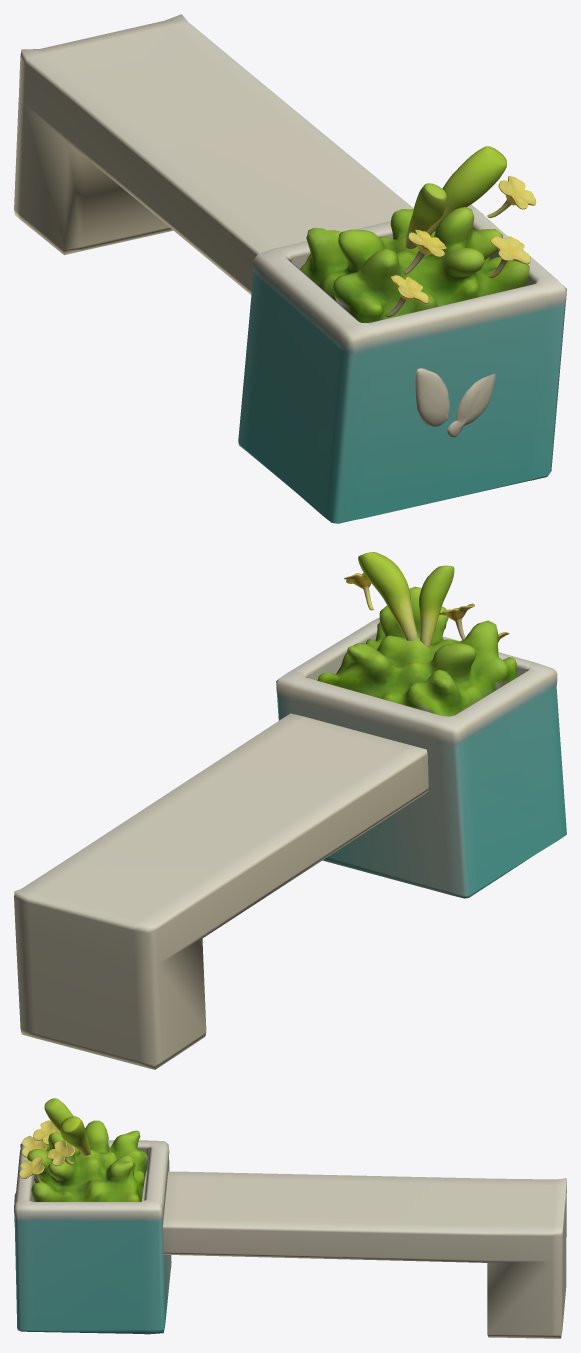
The model's file is planter_stone_bench.glb.
3 views of the same model, one above another, from view 1: azimuth 30°, elevation 25°; view 2: azimuth 150°, elevation 25°; view 3: azimuth 270°, elevation 25° (orthographic). The views are drawn at different scales.
Parts seen in each view (by area): view 1: SM_planter_stone_bench; view 2: SM_planter_stone_bench; view 3: SM_planter_stone_bench.
Part boxes in pixels (<box>): SM_planter_stone_bench: <box>14,14,566,523</box>; SM_planter_stone_bench: <box>14,552,566,1069</box>; SM_planter_stone_bench: <box>14,1098,566,1338</box>.
Bounding box in the file's own units: 0.695 × 0.829 × 2.01.
